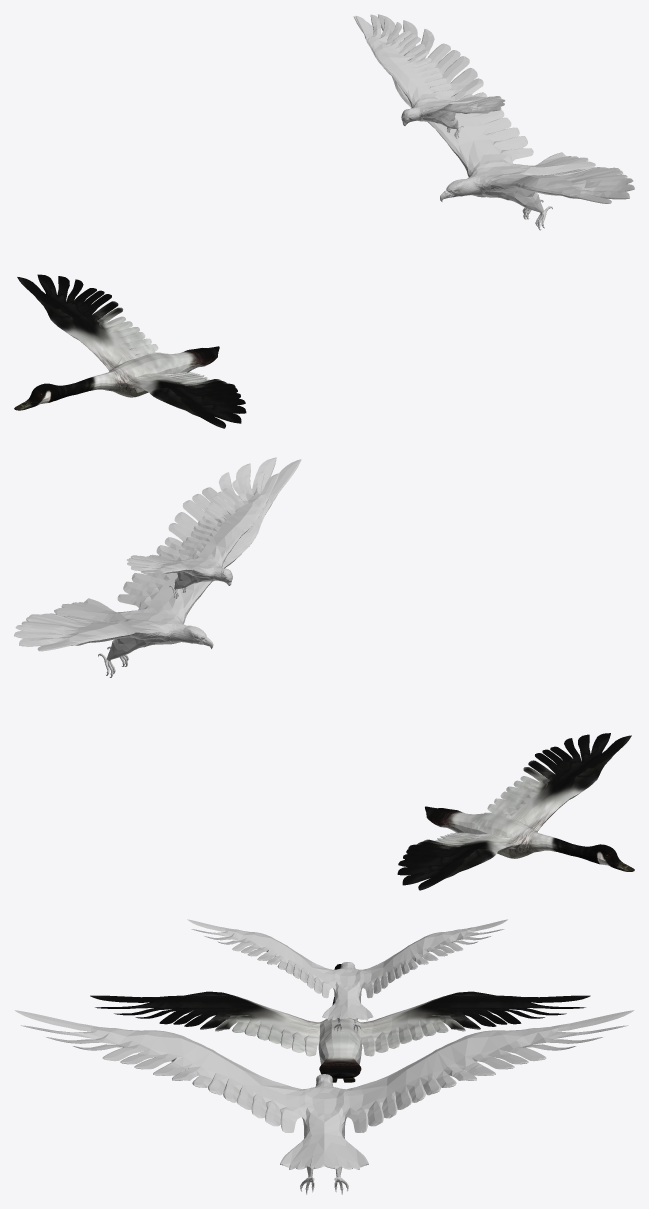
Rendered from birbs.fbx.
3 views of the same model, one above another, from view 1: azimuth 30°, elevation 25°; view 2: azimuth 150°, elevation 25°; view 3: azimuth 270°, elevation 25° (orthographic). The views are drawn at different scales.
Parts seen in each view (by area): view 1: Object_GOOSE.jpg, Object_EAGLE2.jpg, Object_FALCON2.jpg; view 2: Object_GOOSE.jpg, Object_EAGLE2.jpg, Object_FALCON2.jpg; view 3: Object_EAGLE2.jpg, Object_GOOSE.jpg, Object_FALCON2.jpg.
Boxes of the visible parts, x1,y1,x2,y2 form: Object_GOOSE.jpg: [14, 274, 246, 428]; Object_EAGLE2.jpg: [353, 14, 634, 230]; Object_FALCON2.jpg: [356, 14, 505, 138]; Object_GOOSE.jpg: [397, 733, 634, 890]; Object_EAGLE2.jpg: [14, 457, 301, 677]; Object_FALCON2.jpg: [126, 472, 279, 598]; Object_EAGLE2.jpg: [14, 1010, 634, 1194]; Object_GOOSE.jpg: [90, 964, 590, 1082]; Object_FALCON2.jpg: [187, 919, 507, 1032].
Size of the model in its own units: 1.73 by 0.7432 by 1.35.
